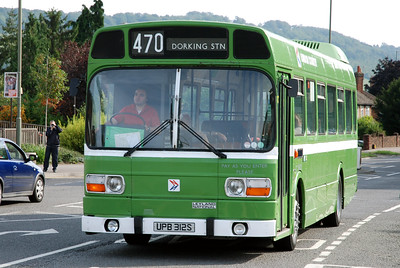bus: (68, 19, 357, 252)
car: (1, 137, 45, 206)
